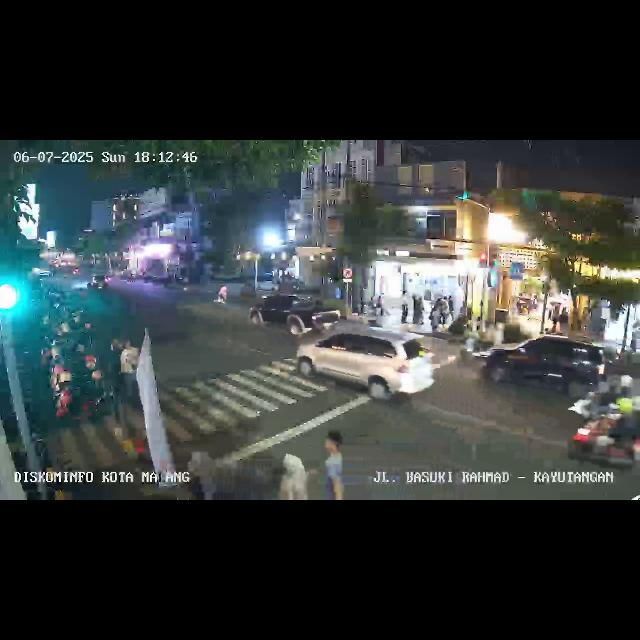car: (299, 328, 435, 404), (478, 336, 614, 399), (250, 290, 340, 338)
motorcycle: (568, 397, 640, 473), (568, 374, 640, 424), (212, 283, 228, 311)
person: (320, 430, 348, 498), (274, 451, 312, 499), (122, 340, 148, 406), (106, 336, 124, 396), (413, 294, 423, 328), (430, 300, 440, 332), (374, 291, 386, 317), (399, 291, 408, 325), (550, 304, 560, 334), (560, 310, 570, 336), (446, 295, 454, 321), (632, 325, 640, 351)
